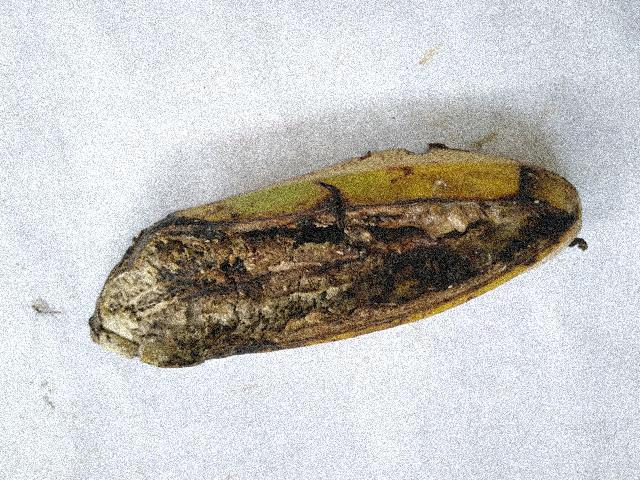rotten: (41, 117, 579, 405)
